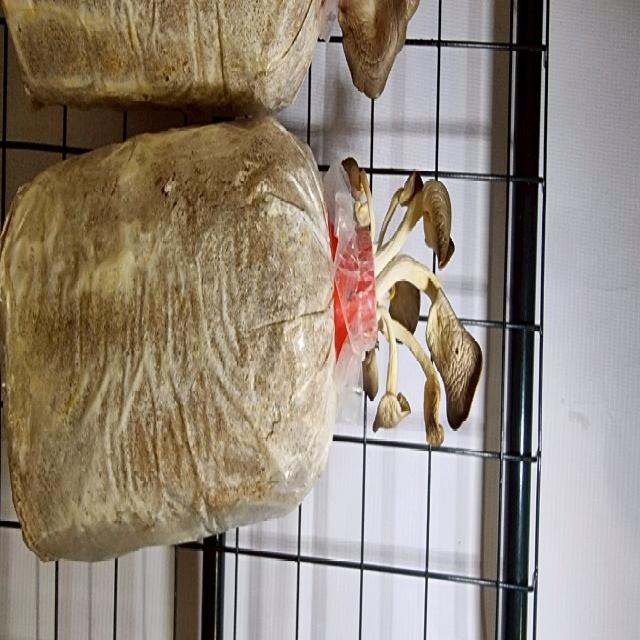abnormal: (349, 143, 484, 483)
